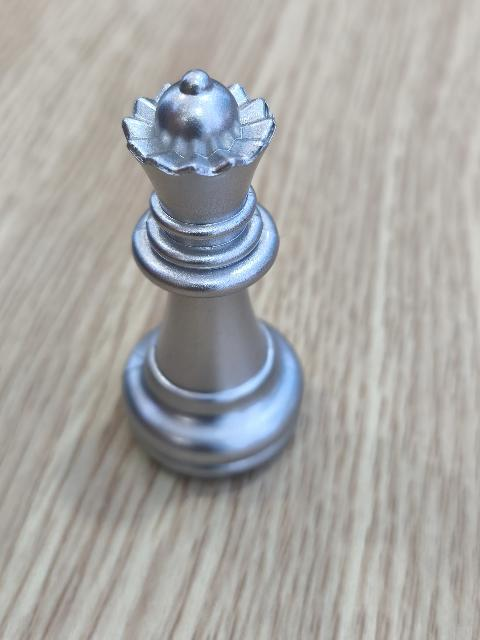white_queen: (117, 66, 304, 477)
